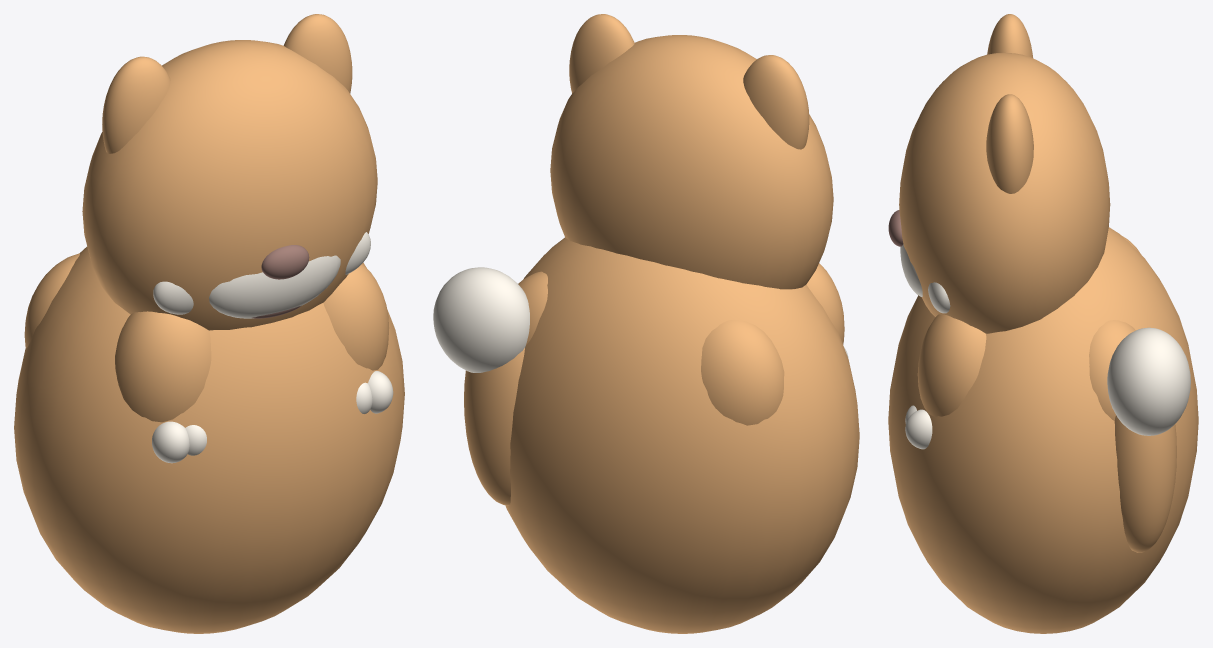
Rendered from fox.gltf.
3 renders of one model, left to right at view 1: azimuth 30°, elevation 25°; view 2: azimuth 150°, elevation 25°; view 3: azimuth 270°, elevation 25°, orthographic. The views are drawn at different scales.
Parts seen in each view (by area): view 1: Body, Head, PawFront (×2), PointedEar (×2), Muzzle, Toe (×2), PawBack, Nose, Cheek; view 2: Body, Head, TailTip, PawBack (×2), PointedEar (×2), Tail, PawFront; view 3: Body, Head, TailTip, Tail, PawFront, PointedEar (×2), PawBack, Toe, Muzzle, Cheek.
Part boxes in pixels (x1=…): Body: x1=14, y1=246, x2=404, y2=633; Head: x1=82, y1=40, x2=377, y2=330; PawFront (×2): x1=115, y1=264, x2=388, y2=422; PointedEar (×2): x1=102, y1=14, x2=352, y2=153; Muzzle: x1=209, y1=255, x2=340, y2=318; Toe (×2): x1=152, y1=371, x2=393, y2=463; PawBack: x1=24, y1=253, x2=79, y2=348; Nose: x1=261, y1=245, x2=309, y2=279; Cheek: x1=153, y1=281, x2=193, y2=314; Body: x1=505, y1=237, x2=859, y2=633; Head: x1=550, y1=35, x2=833, y2=289; TailTip: x1=433, y1=267, x2=529, y2=372; PawBack (×2): x1=518, y1=271, x2=784, y2=425; PointedEar (×2): x1=569, y1=14, x2=809, y2=149; Tail: x1=464, y1=348, x2=524, y2=505; PawFront: x1=806, y1=263, x2=844, y2=344; Body: x1=888, y1=227, x2=1198, y2=633; Head: x1=899, y1=52, x2=1110, y2=333; TailTip: x1=1107, y1=327, x2=1190, y2=435; Tail: x1=1114, y1=415, x2=1176, y2=552; PawFront: x1=917, y1=314, x2=986, y2=416; PointedEar (×2): x1=986, y1=14, x2=1033, y2=193; PawBack: x1=1089, y1=320, x2=1135, y2=420; Toe: x1=905, y1=409, x2=932, y2=449; Muzzle: x1=900, y1=244, x2=922, y2=296; Cheek: x1=928, y1=282, x2=950, y2=313.
Bounding box in the file's own units: 1.38 × 2.16 × 1.08.
